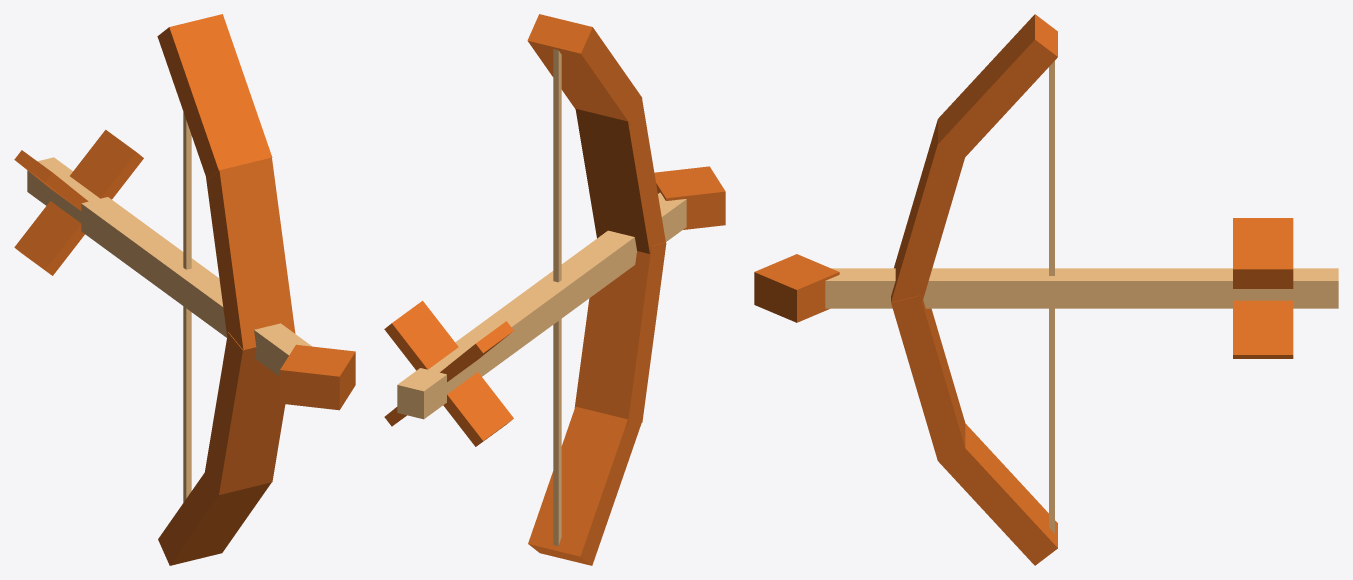
Rendered from DoubleArrow.fbx.
3 views of the same model, side by side, from view 1: azimuth 30°, elevation 25°; view 2: azimuth 150°, elevation 25°; view 3: azimuth 270°, elevation 25° (orthographic). The views are drawn at different scales.
Parts seen in each view (by area): view 1: Cube.010, Cube.009, Cube.001, Cube.011, Cube.008, Cube.002, Cube.007, Cube.006, Cube.004, Cube.005; view 2: Cube.001, Cube.011, Cube.008, Cube.010, Cube.009, Cube.007, Cube.002, Cube.006, Cube.004, Cube.005; view 3: Cube.001, Cube.009, Cube.008, Cube.011, Cube.010, Cube.002, Cube.003, Cube.007, Cube.005, Cube.004.
Boxes of the visible parts, box(x1,y1,x2,y2) form: Cube.010: box(206, 157, 295, 350); Cube.009: box(157, 14, 272, 179); Cube.001: box(27, 157, 311, 376); Cube.011: box(204, 332, 285, 494); Cube.008: box(158, 473, 271, 565); Cube.002: box(280, 344, 355, 410); Cube.007: box(183, 112, 191, 502); Cube.006: box(14, 201, 84, 275); Cube.004: box(70, 129, 143, 199); Cube.005: box(14, 150, 88, 210); Cube.001: box(397, 192, 686, 419); Cube.011: box(574, 242, 666, 425); Cube.008: box(528, 406, 641, 565); Cube.010: box(575, 99, 665, 253); Cube.009: box(527, 14, 642, 124); Cube.007: box(553, 49, 561, 545); Cube.002: box(654, 166, 725, 229); Cube.006: box(443, 372, 513, 446); Cube.004: box(384, 300, 458, 370); Cube.005: box(440, 321, 513, 381); Cube.001: box(825, 268, 1338, 308); Cube.009: box(938, 14, 1057, 161); Cube.008: box(938, 423, 1057, 565); Cube.011: box(891, 295, 966, 461); Cube.010: box(891, 119, 964, 302); Cube.002: box(754, 254, 839, 322); Cube.003: box(1233, 300, 1293, 358); Cube.007: box(1049, 61, 1054, 533); Cube.005: box(1233, 218, 1293, 257); Cube.004: box(1233, 258, 1293, 288).
Bounding box in the file's own units: 36.97 × 192 × 194.
